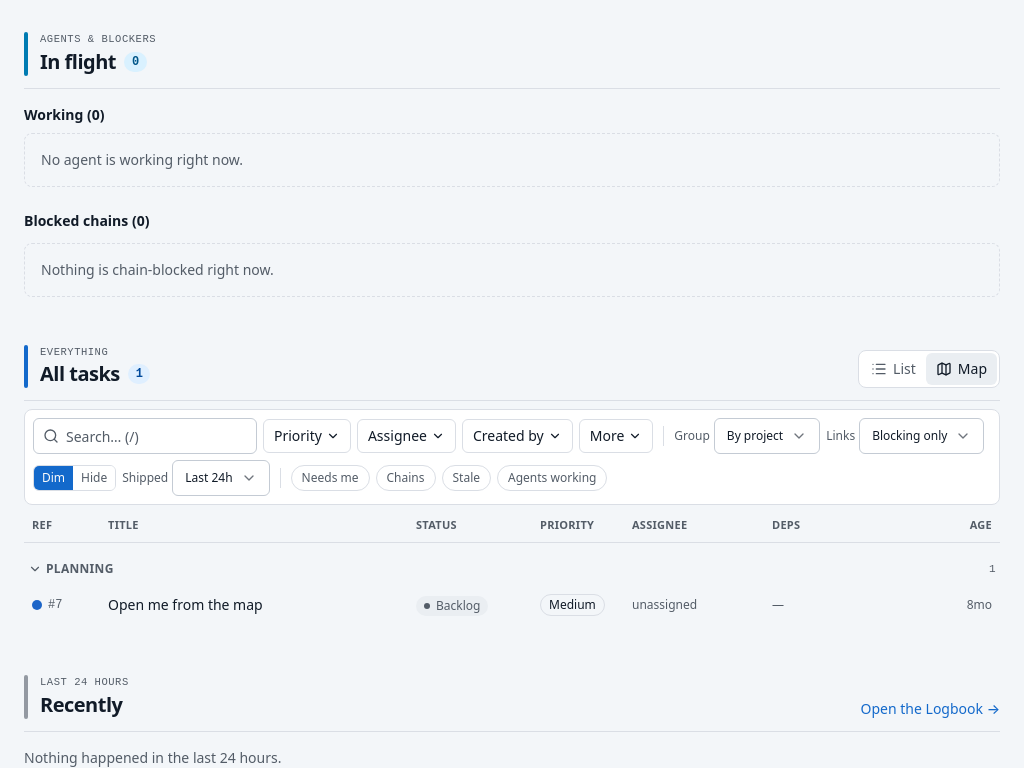
Test: TasksMapPage › opens the task drawer from the 'All tasks' ledger, and closes it
(page scrolled)
Expected: the text "Open me from the map" is shown, [108,595,263,615]
Step 1. Click the button "#7 Open me from the map Backlog Medium unassigned — 8mo" → (185, 605), box [24,583,1000,627]
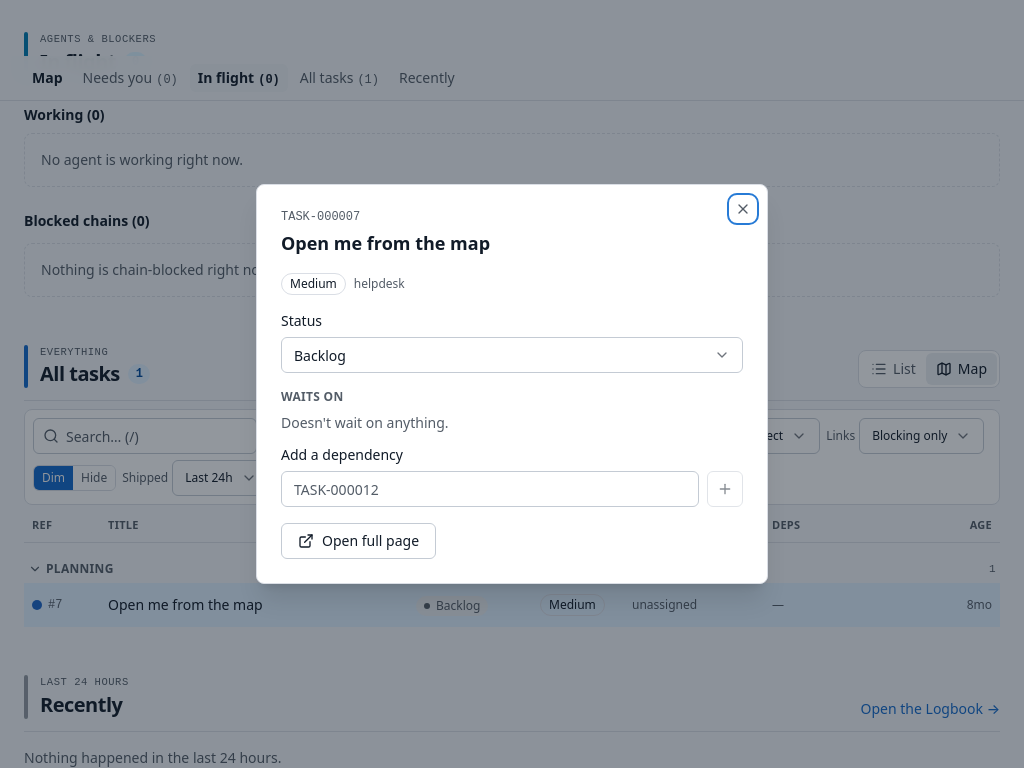
Now the dialog shows "TASK-000007", box [281,210,360,224]
Step 2. Press Escape
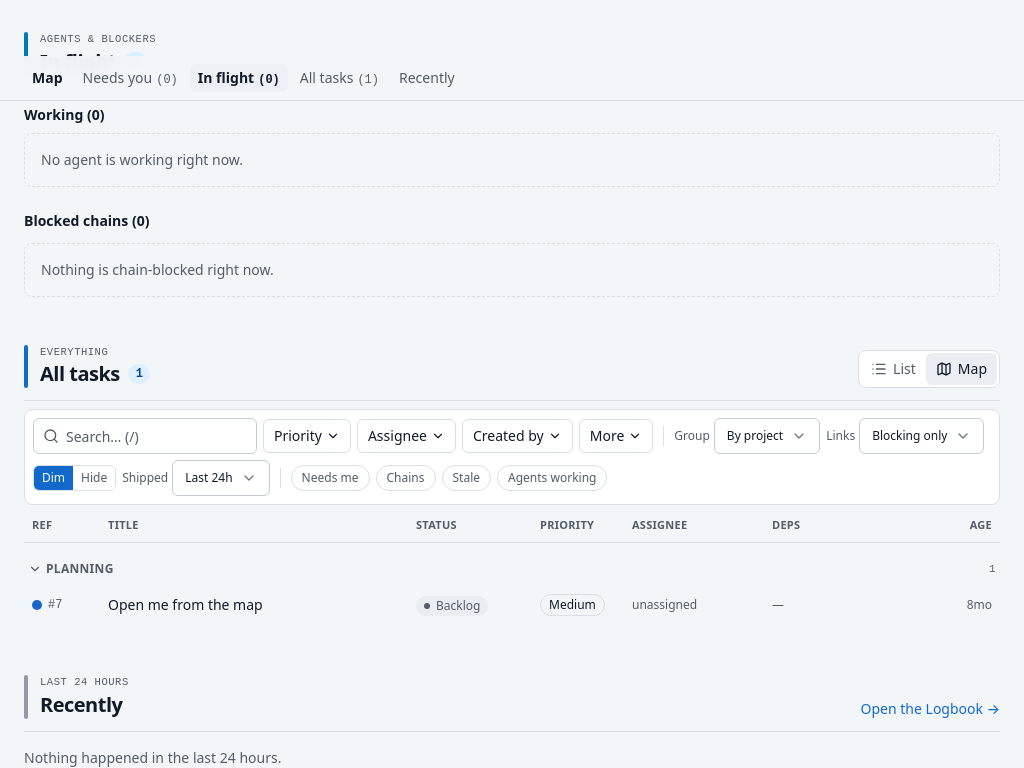
Now the dialog is gone
